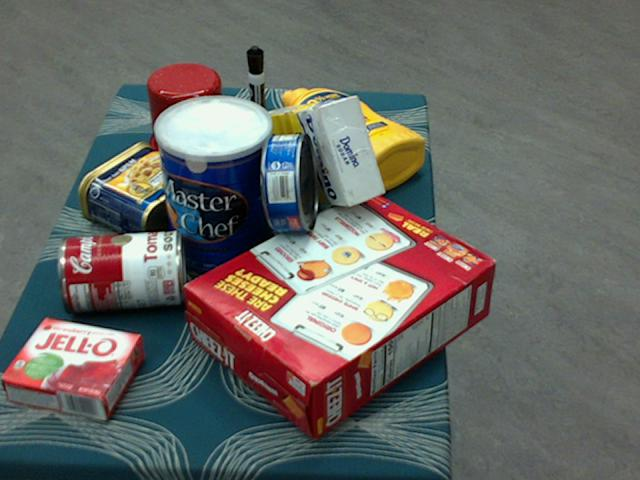cracker_box: (183, 188, 496, 438)
gelatin_box: (1, 316, 144, 420)
large_marker: (246, 45, 267, 149)
master_chef_can: (154, 97, 274, 283)
mug: (146, 64, 231, 164)
mustard_bottle: (280, 87, 424, 193)
potted_meat_can: (78, 142, 209, 244)
sugar_box: (255, 97, 384, 207)
tomato_soup_can: (57, 231, 184, 310)
tuna_fish_can: (261, 131, 318, 230)
